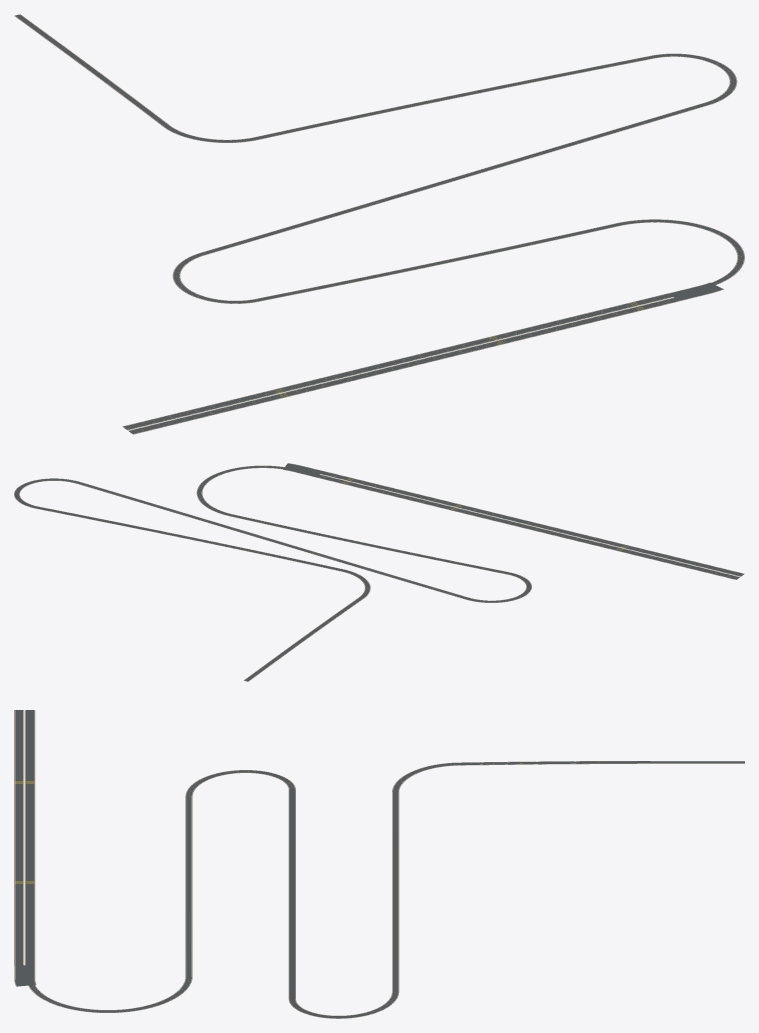
Rendered from Highlands_Road.glb.
The picture shows the model from 3 angles, top to bottom: view 1: azimuth 30°, elevation 25°; view 2: azimuth 150°, elevation 25°; view 3: azimuth 270°, elevation 25°; orthographic projection. The views are drawn at different scales.
Parts seen in each view (by area): view 1: Highlands_Road_Highlands_Asphalt.001, Highlands_Road_Highlands_Asphalt.002, Highlands_Road_Highlands_Asphalt.010, Highlands_Road_Highlands_Asphalt.011, Highlands_Road_Highlands_Asphalt.009, Highlands_Road_Highlands_Asphalt, Highlands_Road_Highlands_Asphalt.005, Highlands_Road_Highlands_Asphalt.004, Highlands_Road_Highlands_Asphalt.003, Highlands_Road_Highlands_Asphalt.007, Highlands_Road_Highlands_GravelShoulder.010, Highlands_Road_Highlands_GravelShoulder.011; view 2: Highlands_Road_Highlands_Asphalt.001, Highlands_Road_Highlands_Asphalt.002, Highlands_Road_Highlands_Asphalt.010, Highlands_Road_Highlands_Asphalt.011, Highlands_Road_Highlands_Asphalt.009, Highlands_Road_Highlands_Asphalt, Highlands_Road_Highlands_Asphalt.005, Highlands_Road_Highlands_GravelShoulder.010, Highlands_Road_Highlands_Asphalt.004, Highlands_Road_Highlands_GravelShoulder.011, Highlands_Road_Highlands_Asphalt.003, Highlands_Road_Highlands_Asphalt.007 (+6 smaller); view 3: Highlands_Road_Highlands_Asphalt.001, Highlands_Road_Highlands_Asphalt.002, Highlands_Road_Highlands_Asphalt.011, Highlands_Road_Highlands_Asphalt.010, Highlands_Road_Highlands_Asphalt.009, Highlands_Road_Highlands_Asphalt, Highlands_Road_Highlands_Asphalt.007, Highlands_Road_Highlands_Asphalt.005, Highlands_Road_Highlands_Asphalt.004, Highlands_Road_Highlands_Asphalt.003, Highlands_Road_Highlands_Asphalt.013, Highlands_Road_Highlands_GravelShoulder.011.
Boxes of the visible parts, x1,y1,x2,y2 form: Highlands_Road_Highlands_Asphalt.001: (218,268,494,385); Highlands_Road_Highlands_Asphalt.002: (409,229,672,339); Highlands_Road_Highlands_Asphalt.010: (300,89,540,209); Highlands_Road_Highlands_Asphalt.011: (484,54,723,154); Highlands_Road_Highlands_Asphalt.009: (176,128,357,268); Highlands_Road_Highlands_Asphalt: (123,291,309,429); Highlands_Road_Highlands_Asphalt.005: (497,292,684,343); Highlands_Road_Highlands_Asphalt.004: (312,341,500,389); Highlands_Road_Highlands_Asphalt.003: (129,386,315,433); Highlands_Road_Highlands_Asphalt.007: (593,219,744,284); Highlands_Road_Highlands_GravelShoulder.010: (300,89,540,209); Highlands_Road_Highlands_GravelShoulder.011: (484,53,723,154); Highlands_Road_Highlands_Asphalt.001: (390,508,598,582); Highlands_Road_Highlands_Asphalt.002: (248,474,455,550); Highlands_Road_Highlands_Asphalt.010: (165,520,349,564); Highlands_Road_Highlands_Asphalt.011: (24,479,208,533); Highlands_Road_Highlands_Asphalt.009: (307,562,496,602); Highlands_Road_Highlands_Asphalt: (524,543,739,592); Highlands_Road_Highlands_Asphalt.005: (312,470,459,506); Highlands_Road_Highlands_GravelShoulder.010: (165,520,350,564); Highlands_Road_Highlands_Asphalt.004: (457,504,602,541); Highlands_Road_Highlands_GravelShoulder.011: (25,479,208,534); Highlands_Road_Highlands_Asphalt.003: (600,539,743,576); Highlands_Road_Highlands_Asphalt.007: (197,466,284,519); Highlands_Road_Highlands_Asphalt.001: (26,779,204,882); Highlands_Road_Highlands_Asphalt.002: (26,873,191,965); Highlands_Road_Highlands_Asphalt.011: (289,906,398,1006); Highlands_Road_Highlands_Asphalt.010: (289,814,398,929); Highlands_Road_Highlands_Asphalt.009: (277,765,437,853); Highlands_Road_Highlands_Asphalt: (26,710,233,795); Highlands_Road_Highlands_Asphalt.007: (29,965,191,1012); Highlands_Road_Highlands_Asphalt.005: (15,882,34,967); Highlands_Road_Highlands_Asphalt.004: (15,795,22,882); Highlands_Road_Highlands_Asphalt.003: (15,710,22,795); Highlands_Road_Highlands_Asphalt.013: (436,761,640,766); Highlands_Road_Highlands_GravelShoulder.011: (288,906,399,1006).
Bounding box in the file's own units: 1070 × 100 × 920.
